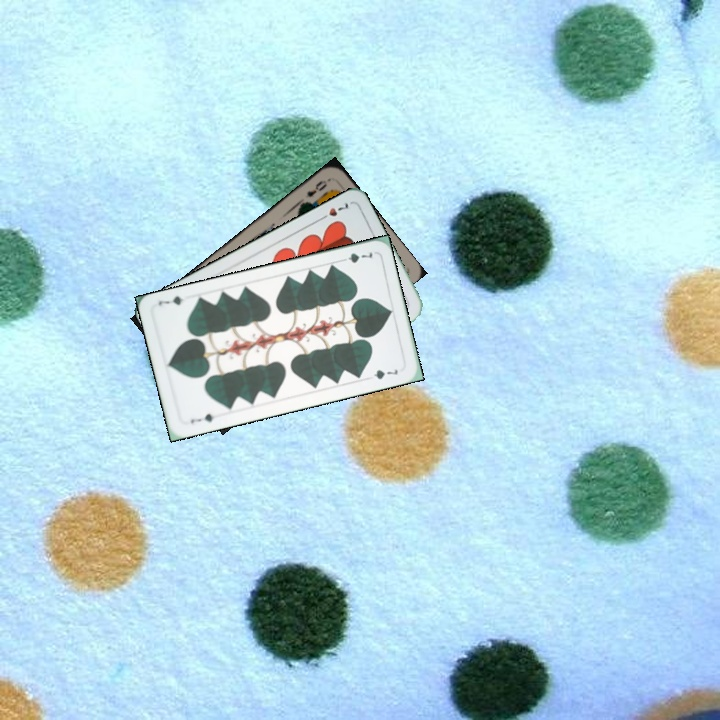EO: (299, 175, 332, 207)
G7: (336, 246, 375, 266), (187, 409, 217, 426)
H7: (315, 198, 353, 223)
